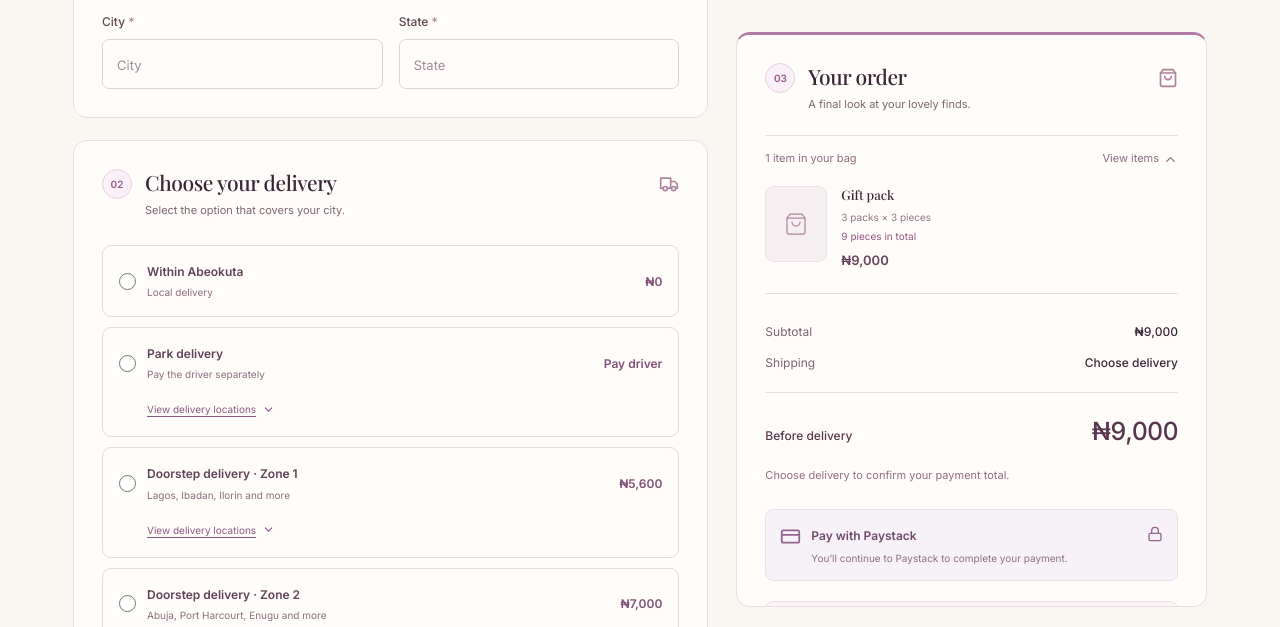
delivery option Within Abeokuta preserves the existing checkout rate
The image size is (1280, 627).
(page scrolled)
Click the radio button labelled "Within Abeokuta Local delivery ₦0": click(128, 281) [119, 273, 136, 290]
(page scrolled)
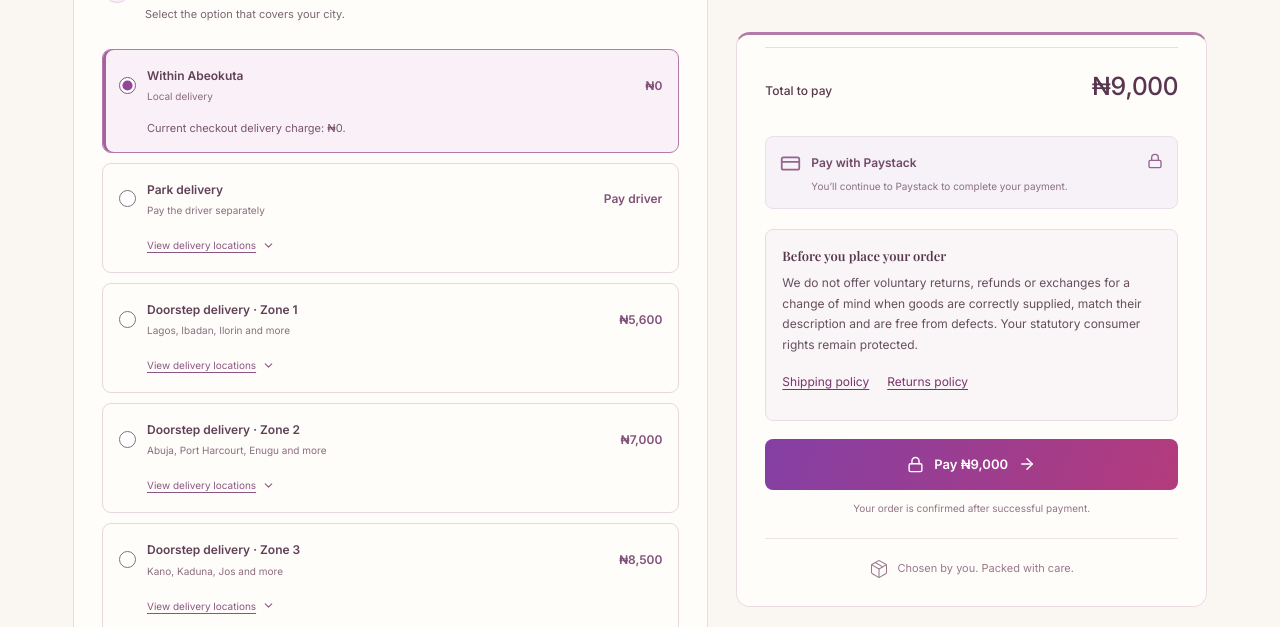
Check: the button "Pay ₦9,000" is enabled, box [765, 439, 1178, 489]
